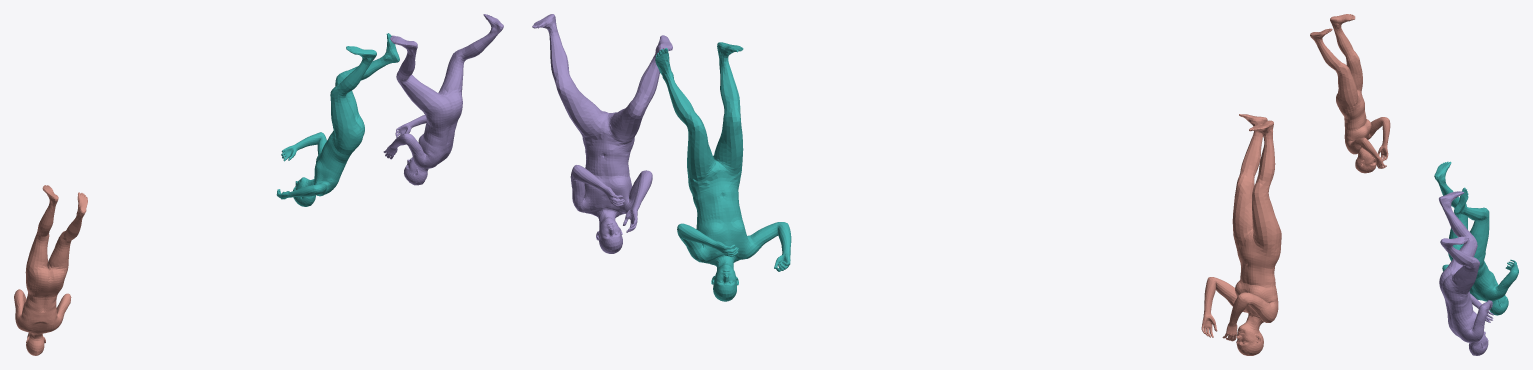
File: all_people_native_world.glb
The picture shows the model from 3 angles, left to right: view 1: azimuth 30°, elevation 25°; view 2: azimuth 150°, elevation 25°; view 3: azimuth 270°, elevation 25°; orthographic projection. The views are drawn at different scales.
Visible parts, largest first — view 1: persistent_id_2_slot_2, persistent_id_1_slot_1, persistent_id_0_slot_0; view 2: persistent_id_1_slot_1, persistent_id_2_slot_2, persistent_id_0_slot_0; view 3: persistent_id_2_slot_2, persistent_id_0_slot_0, persistent_id_1_slot_1.
Boxes of the visible parts, bbox=[...] form: persistent_id_2_slot_2: bbox=[383, 14, 503, 185]; persistent_id_1_slot_1: bbox=[276, 33, 399, 206]; persistent_id_0_slot_0: bbox=[14, 185, 87, 355]; persistent_id_1_slot_1: bbox=[655, 42, 791, 301]; persistent_id_2_slot_2: bbox=[532, 14, 672, 253]; persistent_id_0_slot_0: bbox=[1201, 114, 1281, 355]; persistent_id_2_slot_2: bbox=[1439, 191, 1493, 355]; persistent_id_0_slot_0: bbox=[1310, 14, 1390, 173]; persistent_id_1_slot_1: bbox=[1434, 161, 1518, 315].
Bounding box in the file's own units: 5.2 × 1.75 × 1.93.
